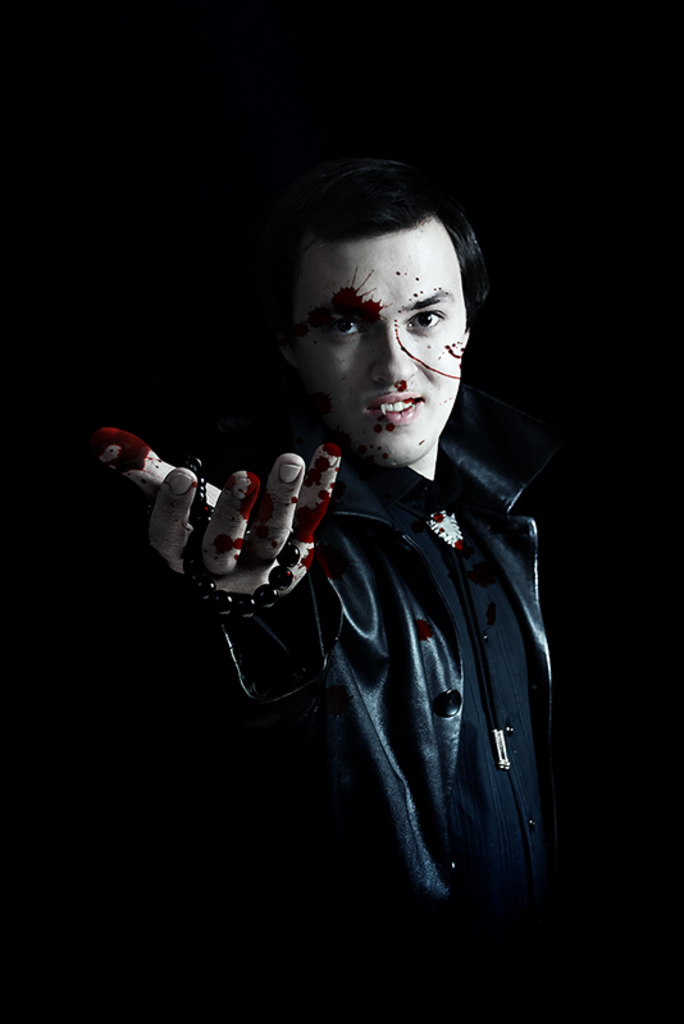Human-face: (281, 219, 465, 466)
